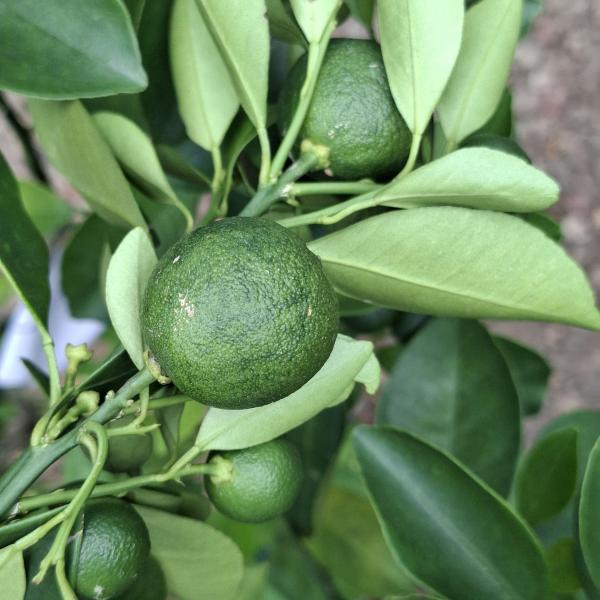Scab: (132, 209, 352, 421), (267, 32, 436, 198)
